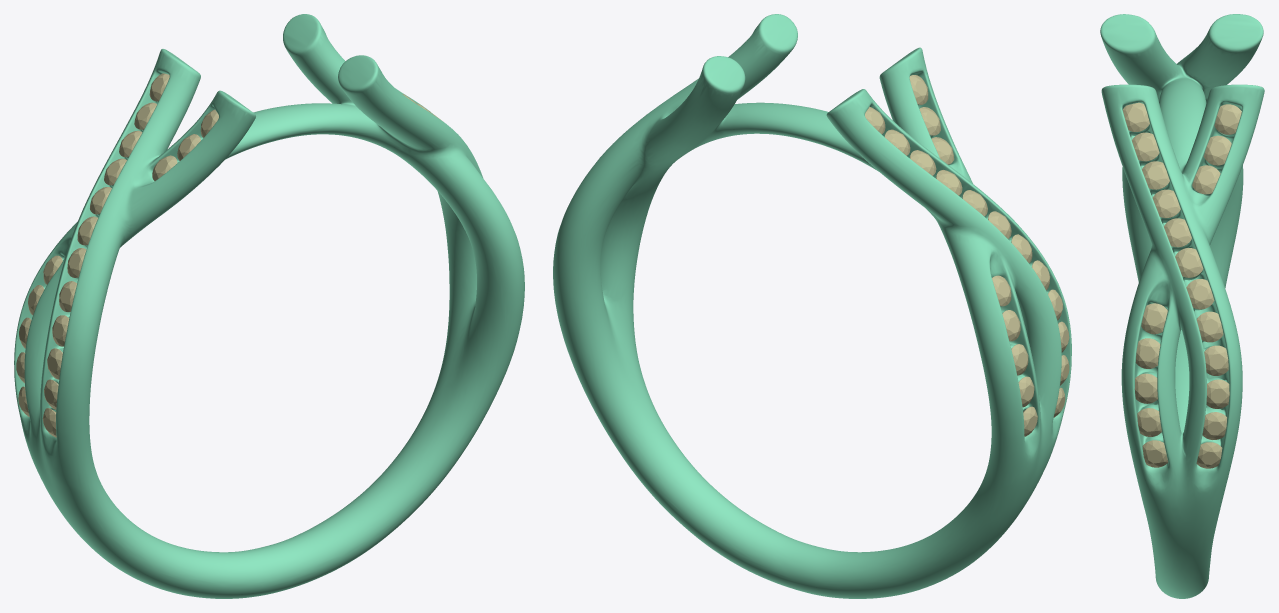
3 views of the same model, side by side, from view 1: azimuth 30°, elevation 25°; view 2: azimuth 150°, elevation 25°; view 3: azimuth 270°, elevation 25° (orthographic).
Parts seen in each view (by area): view 1: Metal02; view 2: Metal02; view 3: Metal02, Diamond_Gem.031, Diamond_Gem.021, Diamond_Gem.022, Diamond_Gem.032, Diamond_Gem.023, Diamond_Gem.030, Diamond_Gem.024, Diamond_Gem.020, Diamond_Gem.033, Diamond_Gem.038, Diamond_Gem.029 (+9 smaller).
Boxes of the visible parts, left/top/right/bottom form: Metal02: left=14, top=14, right=524, bottom=598; Metal02: left=553, top=14, right=1071, bottom=598; Metal02: left=1100, top=14, right=1264, bottom=598; Diamond_Gem.031: left=1196, top=311, right=1223, bottom=342; Diamond_Gem.021: left=1214, top=104, right=1241, bottom=134; Diamond_Gem.022: left=1141, top=303, right=1167, bottom=334; Diamond_Gem.032: left=1186, top=279, right=1214, bottom=309; Diamond_Gem.023: left=1135, top=338, right=1160, bottom=368; Diamond_Gem.030: left=1204, top=345, right=1228, bottom=375; Diamond_Gem.024: left=1134, top=373, right=1157, bottom=403; Diamond_Gem.020: left=1203, top=135, right=1231, bottom=165; Diamond_Gem.033: left=1175, top=248, right=1203, bottom=277; Diamond_Gem.038: left=1122, top=102, right=1149, bottom=131; Diamond_Gem.029: left=1206, top=379, right=1229, bottom=408.
Size of the model in its own units: 20.98 by 22.51 by 6.38.
